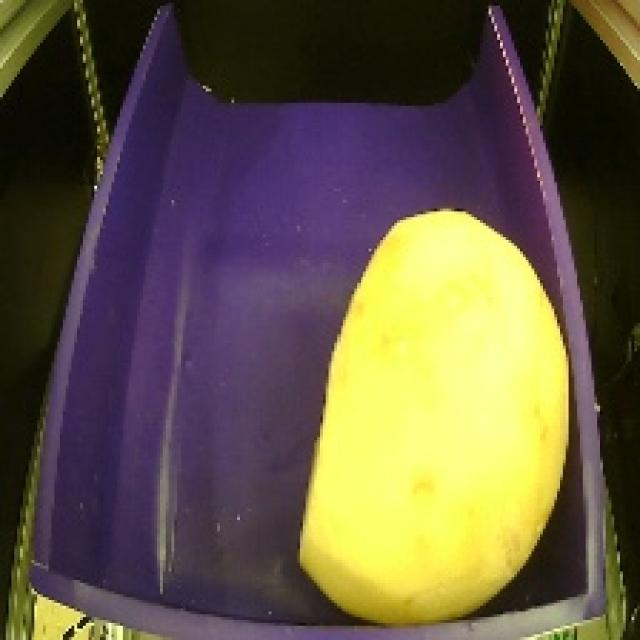full_potato: (275, 194, 585, 632)
